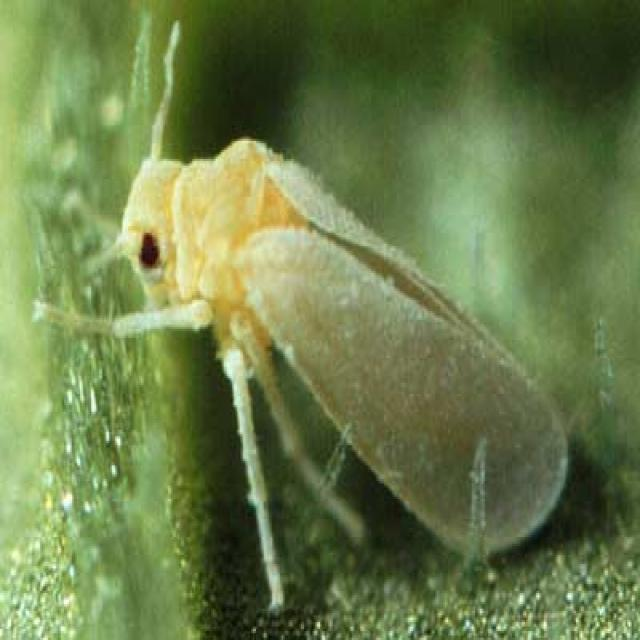Whitefly: (25, 3, 582, 621)
